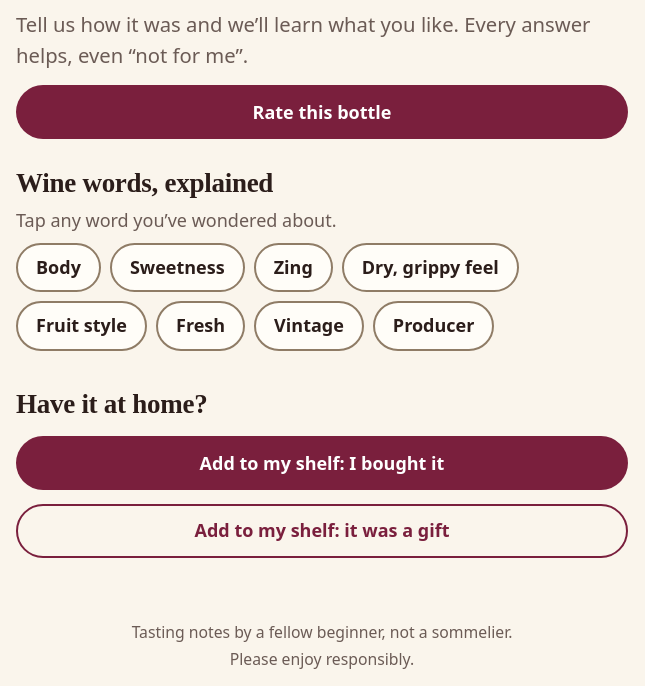
it: Wine card › logs one wine_card_viewed per visit, even after the shelf changes
(page scrolled)
Click the button "Add to my shelf: I bought it" at (322, 463), box [16,436,628,490]
(page scrolled)
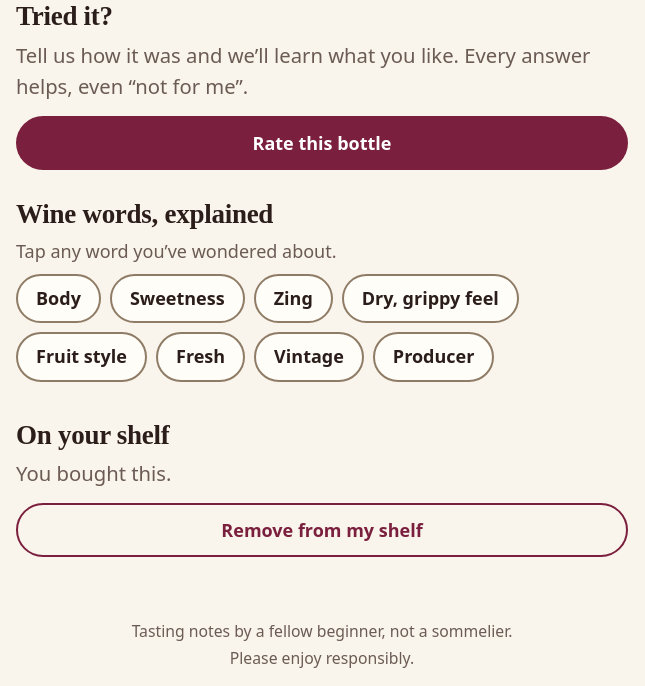
Result: the heading "On your shelf" is shown at [16,420,170,450]
